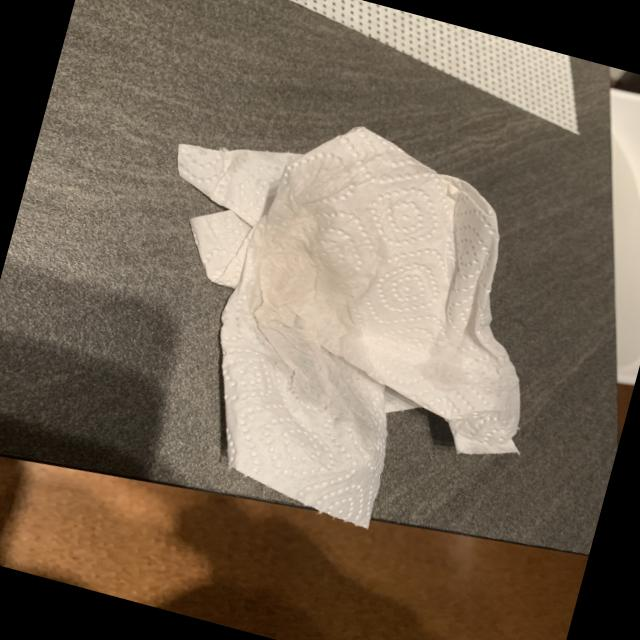organic waste: (95, 75, 598, 572)
